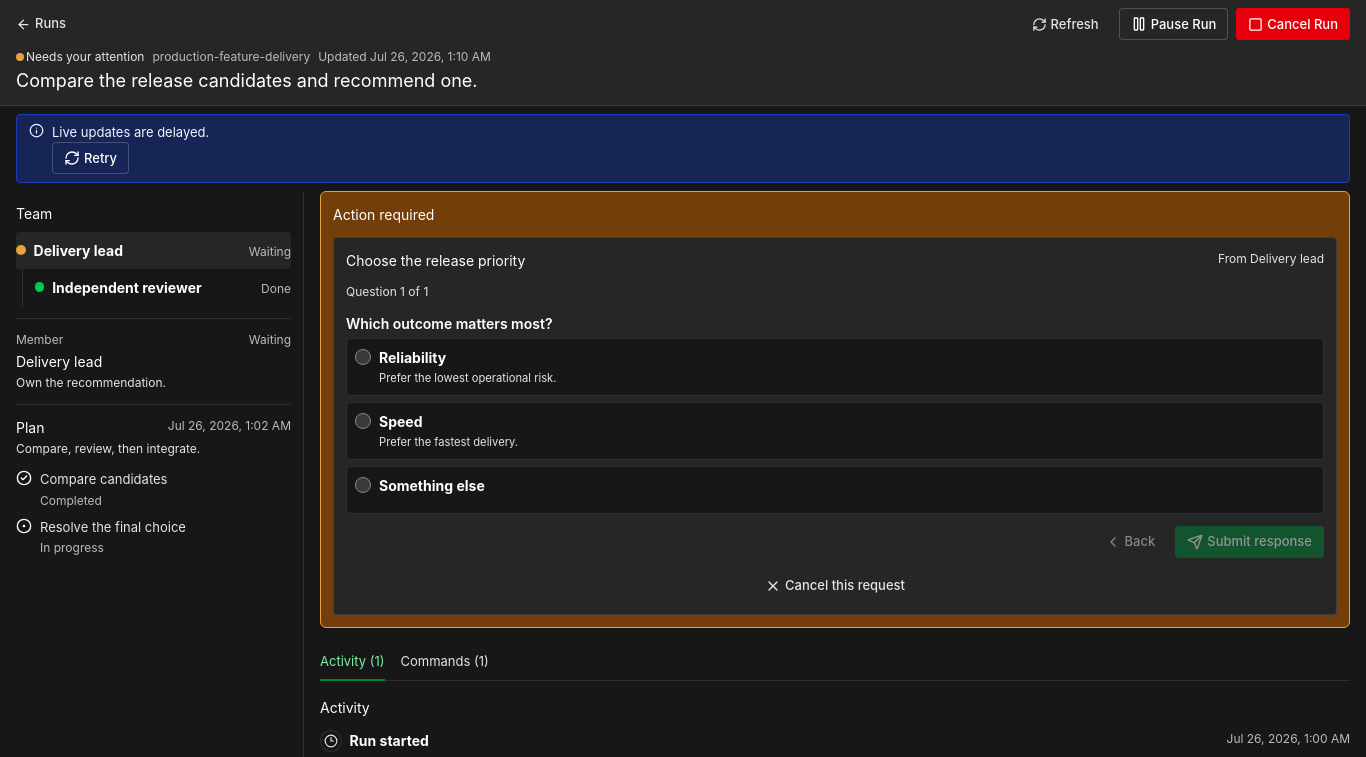
Test: temporary Run Studio › keeps current content through a delayed live reconnect and clears the notice on recovery
Expected: the text "Live updates are delayed." is shown, [52,122,209,142]
Expected: the heading "Compare the release candidates and recommend one." is shown, [16,70,491,92]
Click the button "Retry" at (90, 158), box [52,142,129,174]
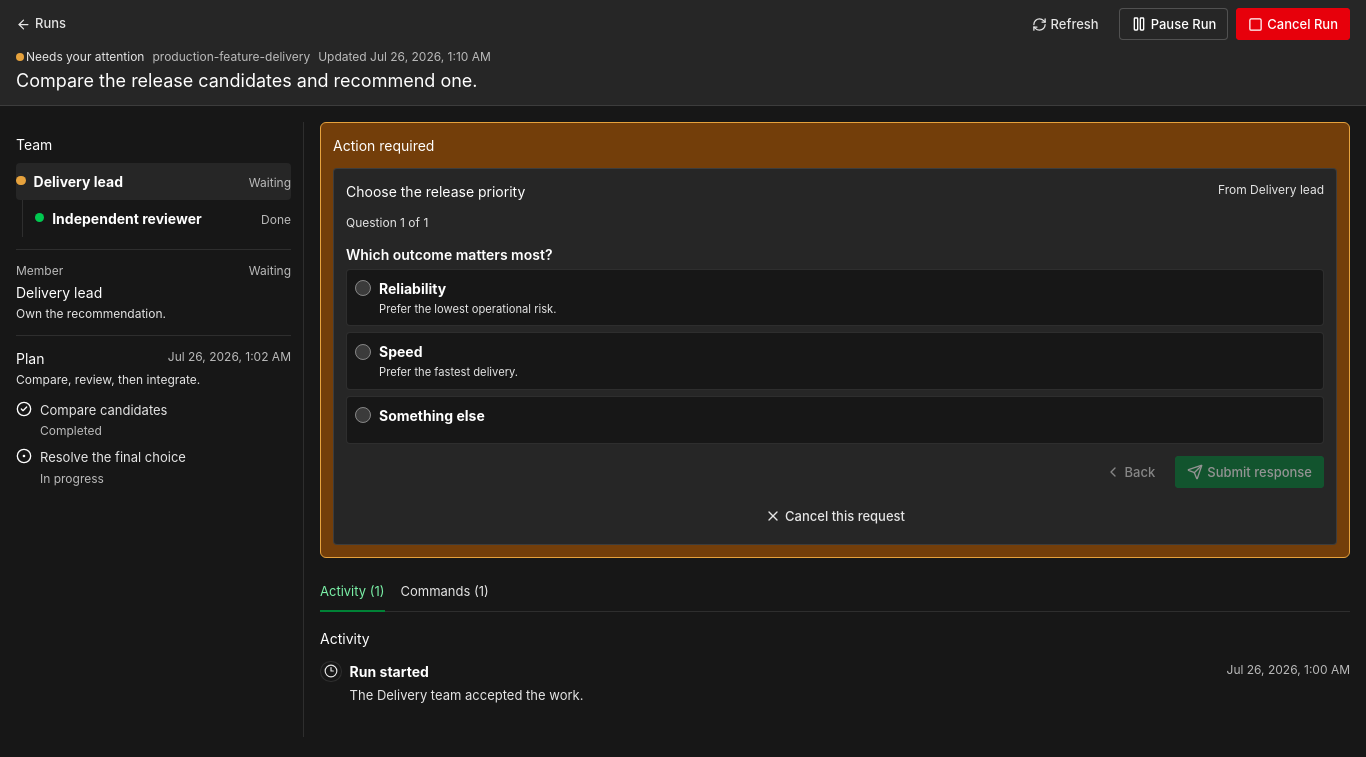
Now the text "Live updates are delayed." is gone
